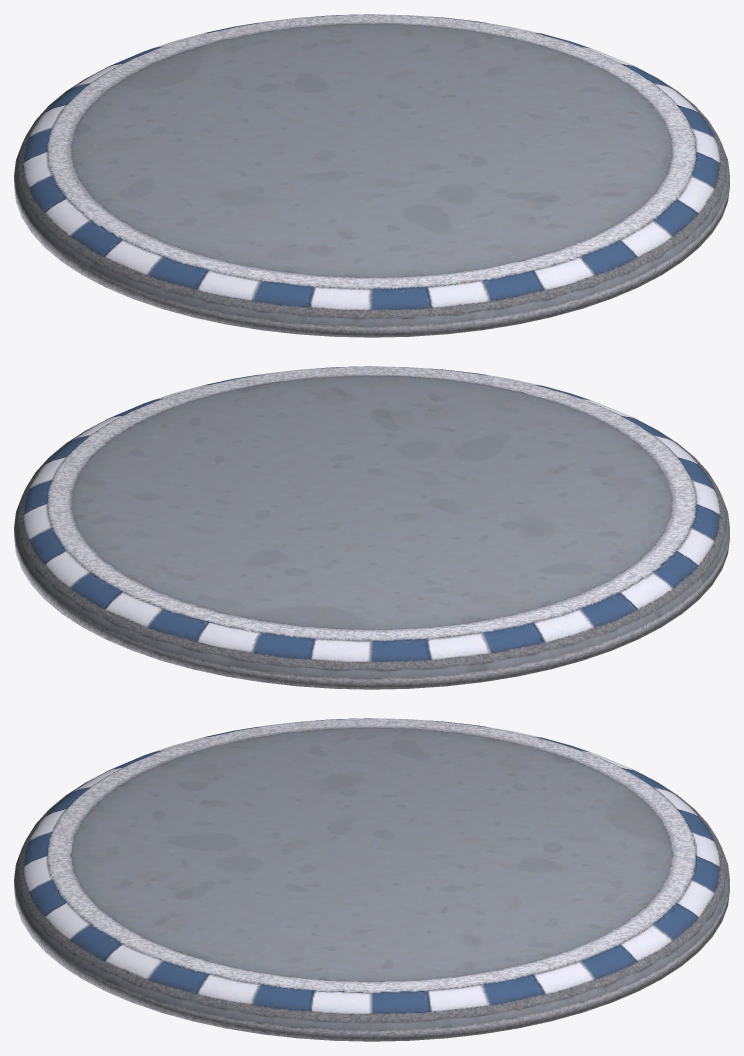
The model's file is CarSelectionPlate.gltf.
3 views of the same model, one above another, from view 1: azimuth 30°, elevation 25°; view 2: azimuth 150°, elevation 25°; view 3: azimuth 270°, elevation 25° (orthographic).
Visible parts, largest first — view 1: CarSelectionPlate; view 2: CarSelectionPlate; view 3: CarSelectionPlate.
Boxes of the visible parts, <box> form: CarSelectionPlate: <box>14,14,729,337</box>; CarSelectionPlate: <box>14,366,729,689</box>; CarSelectionPlate: <box>14,718,729,1041</box>.
Bounding box in the file's own units: 6.69 × 0.3673 × 6.69.
Materials: 1 (1 with a texture image).
